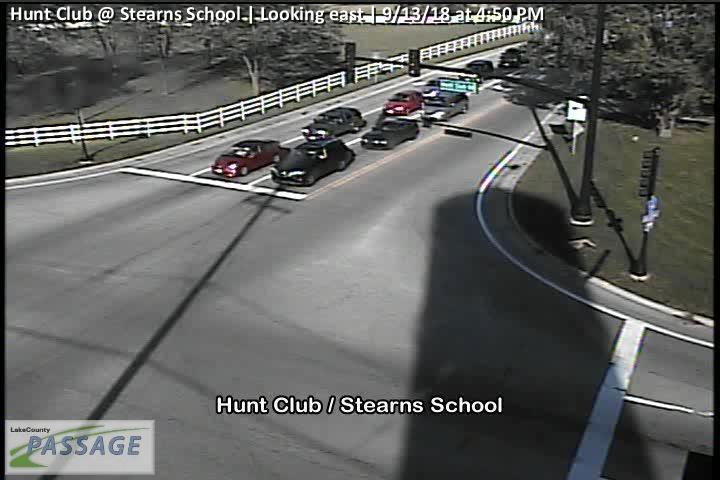Sedan: (270, 136, 354, 187), (212, 138, 287, 178), (301, 106, 366, 141), (361, 118, 419, 148), (421, 90, 469, 120), (382, 90, 421, 114), (459, 60, 493, 81)
